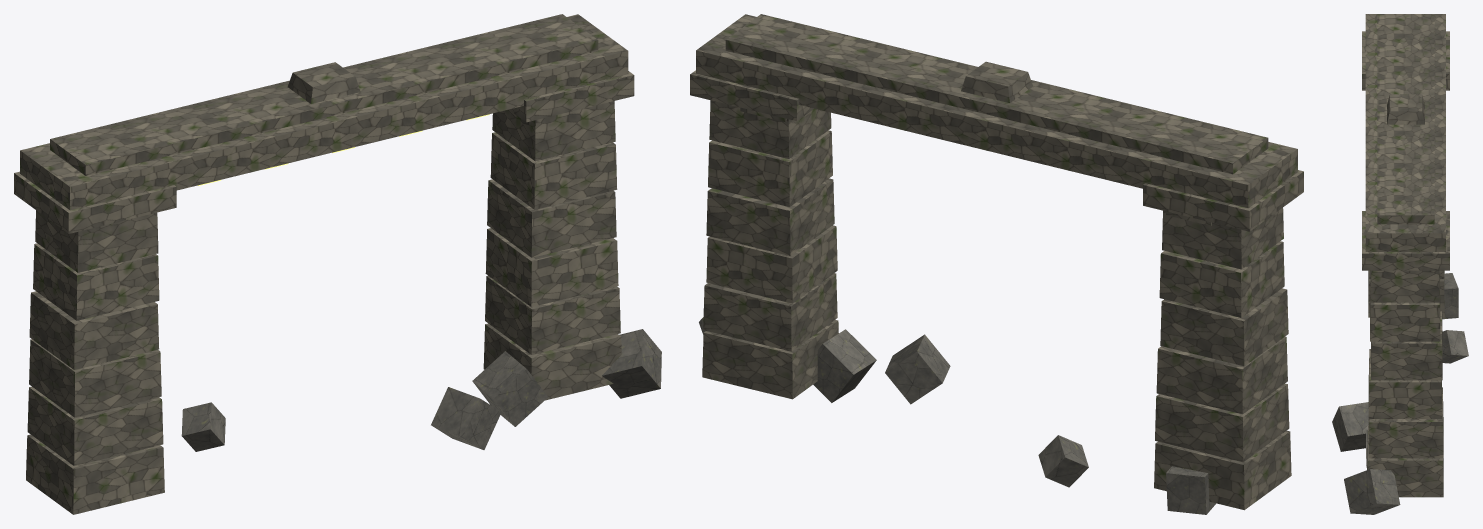
The model's file is StoneGate.fbx.
3 views of the same model, side by side, from view 1: azimuth 30°, elevation 25°; view 2: azimuth 150°, elevation 25°; view 3: azimuth 270°, elevation 25° (orthographic). The views are drawn at different scales.
Parts seen in each view (by area): view 1: StoneGate; view 2: StoneGate; view 3: StoneGate.
Part boxes in pixels (x1=…): StoneGate: x1=14, y1=14, x2=661, y2=514; StoneGate: x1=690, y1=14, x2=1303, y2=514; StoneGate: x1=1332, y1=14, x2=1468, y2=514.
Bounding box in the file's own units: 13.17 × 7.88 × 3.22.
